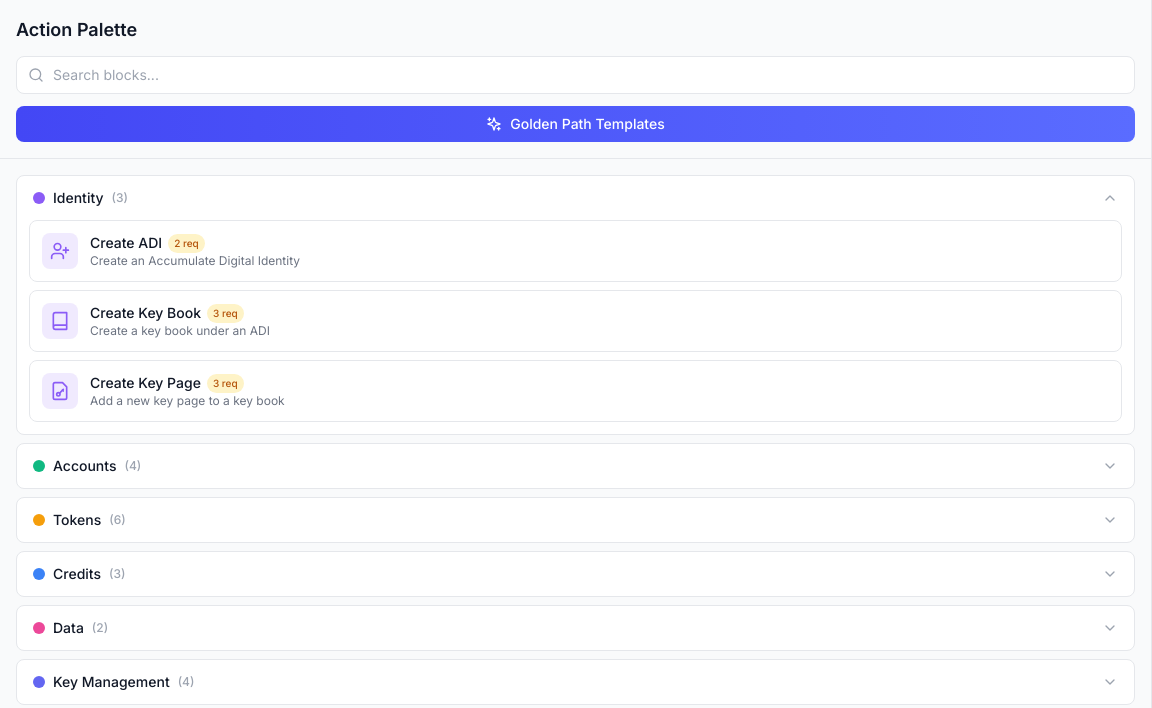
Scenario: ActionPalette › shows result count during search
The image size is (1152, 708).
Type "token" into the field with placeholder "Search blocks...".
click(576, 75); type("token")  # box 16,56 -> 1135,94
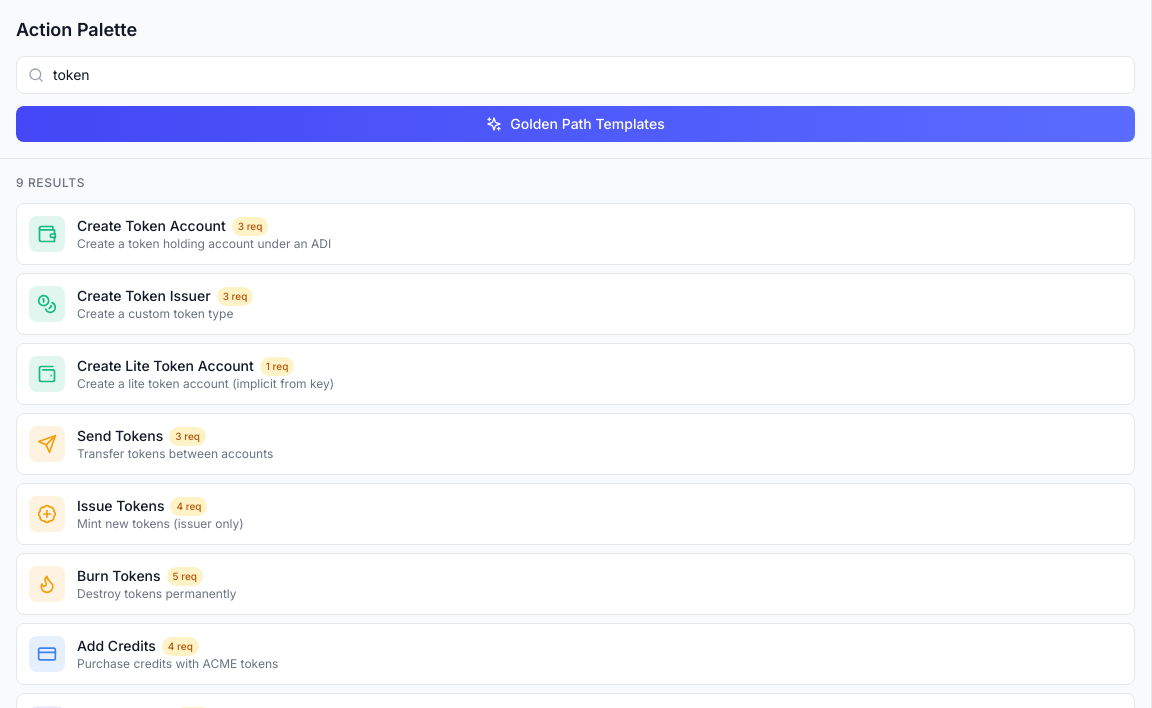
Expected: the text "9 results" is shown, 16,175 -> 85,190
